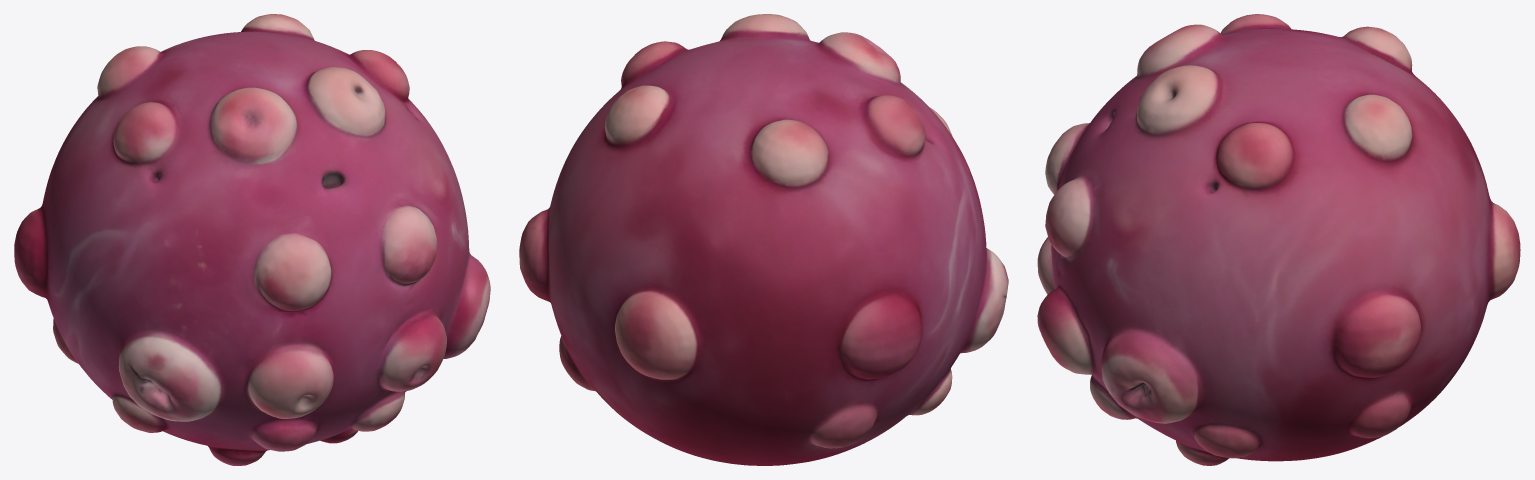
The model's file is vet_v2_path_skin-mast-cell.glb.
The picture shows the model from 3 angles, left to right: view 1: azimuth 30°, elevation 25°; view 2: azimuth 150°, elevation 25°; view 3: azimuth 270°, elevation 25°; orthographic projection. The views are drawn at different scales.
Visible parts, largest first — view 1: model; view 2: model; view 3: model.
Boxes of the visible parts, x1,y1,x2,y2 form: model: (14, 14, 490, 465); model: (519, 14, 1008, 465); model: (1037, 14, 1520, 465).
Size of the model in its own units: 1.78 by 1.69 by 1.9.
1 material, 1 textured.
